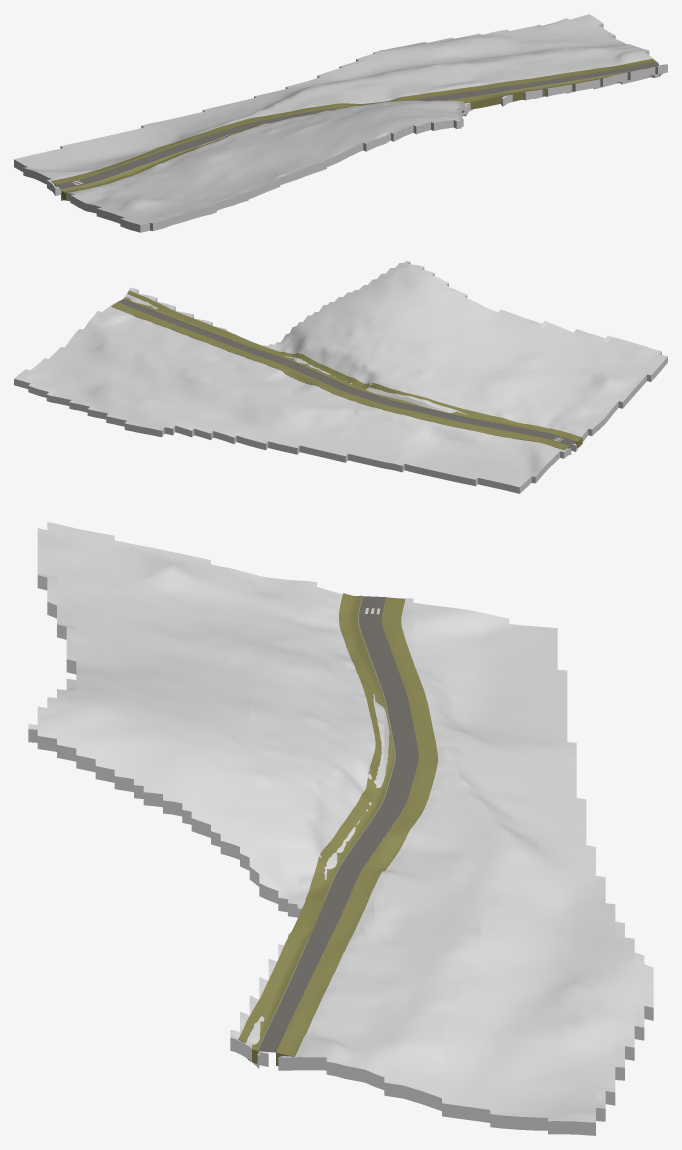
File: conz_61.glb
3 views of the same model, one above another, from view 1: azimuth 30°, elevation 25°; view 2: azimuth 150°, elevation 25°; view 3: azimuth 270°, elevation 25° (orthographic). The views are drawn at different scales.
Visible parts, largest first — view 1: terrain61, road61, verge61L, verge61R; view 2: terrain61, verge61R, verge61L, road61, kerb61_50010; view 3: terrain61, road61, verge61L, verge61R.
Boxes of the visible parts, bbox=[...] form: terrain61: bbox=[14, 14, 667, 232]; road61: bbox=[56, 62, 659, 189]; verge61L: bbox=[51, 58, 655, 187]; verge61R: bbox=[61, 64, 663, 200]; terrain61: bbox=[14, 261, 667, 493]; verge61R: bbox=[123, 290, 582, 447]; verge61L: bbox=[111, 302, 569, 450]; road61: bbox=[118, 299, 576, 445]; kerb61_50010: bbox=[264, 351, 576, 441]; terrain61: bbox=[28, 522, 653, 1135]; road61: bbox=[258, 596, 418, 1052]; verge61L: bbox=[276, 597, 437, 1065]; verge61R: bbox=[238, 593, 394, 1063].
Size of the model in its own units: 248 by 39.46 by 130.
